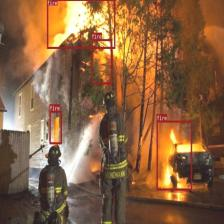fire: (47, 0, 115, 48), (156, 120, 192, 190), (91, 39, 112, 84), (50, 110, 62, 144)
